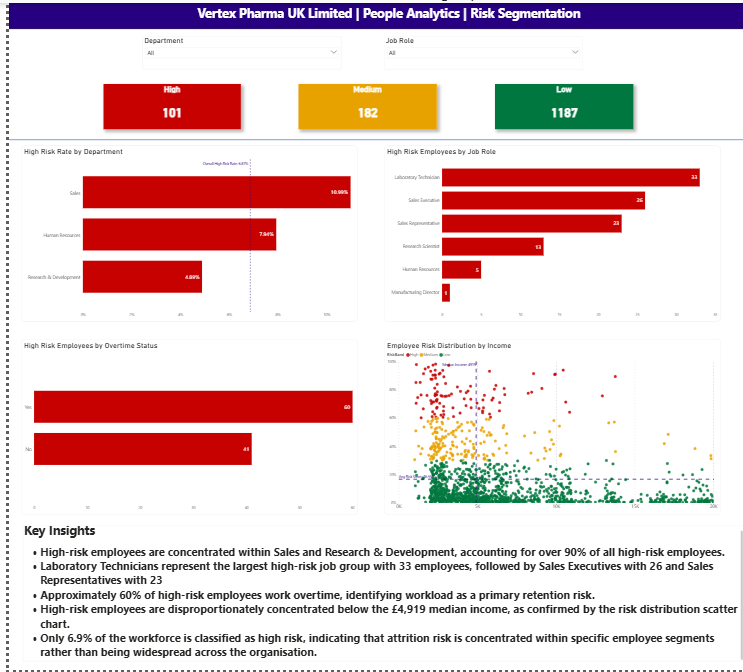

The dashboard page shown, as its layout file describes it:
{"tool":"powerbi","page":{"name":"Risk Segmentation","canvas":[2517,2282],"ordinal":2},"visuals":[{"type":"shape","box":[0,453.8,2568.5,32.2],"z":0},{"type":"textbox","box":[0,0,2600,88.9],"z":1000},{"type":"clusteredBarChart","title":"High Risk Employees by Job Role","fields":{"Y":["VP_Dashboard_Data.High Risk Employees"],"Category":["VP_Dashboard_Data.JobRole"]},"box":[1281.7,486.8,1152,602.8],"z":2000},{"type":"slicer","title":"Department","fields":{"Values":["VP_Dashboard_Data.Department"]},"box":[455.6,111.1,680.6,113.9],"z":3000},{"type":"textbox","box":[45.1,1786.4,2471.9,466.7],"z":4000},{"type":"slicer","title":"Job Role","fields":{"Values":["VP_Dashboard_Data.RiskBand"]},"box":[1283.3,111.1,680.6,113.9],"z":5000},{"type":"clusteredBarChart","title":"High Risk Employees by Overtime Status","fields":{"Y":["VP_Dashboard_Data.High Risk Employees"],"Category":["VP_Dashboard_Data.OverTime"]},"box":[43.4,1150,1152.7,602],"z":6000},{"type":"clusteredBarChart","title":"High Risk Rate by Department","fields":{"Y":["VP_Dashboard_Data.High Risk Rate"],"Category":["VP_Dashboard_Data.Department"]},"box":[43.1,486.8,1152,602.8],"z":8000},{"type":"scatterChart","title":"Employee Risk Distribution by Income","fields":{"Y":["VP_Dashboard_Data.AttritionRiskScore"],"X":["VP_Dashboard_Data.MonthlyIncome"],"Series":["VP_Dashboard_Data.RiskBand"]},"box":[1282.9,1150,1152.7,602],"z":9000},{"type":"card","title":"High","fields":{"Values":["VP_Dashboard_Data.High Risk Employees"]},"box":[325.1,276.8,469.9,154.5],"z":10000},{"type":"card","title":"Medium","fields":{"Values":["VP_Dashboard_Data.Medium Risk Employees"]},"box":[993,276.8,473.1,154.5],"z":11000},{"type":"card","title":"Low","fields":{"Values":["VP_Dashboard_Data.Low Risk Employees"]},"box":[1664.1,276.8,473.1,154.5],"z":12000}]}

Visuals, with their boxes in screenshot pixels (x1, y1, x2, y2), scaled from the page's 2517x2282 canvas onto the 743x672 screenshot:
shape: detection(0, 134, 742, 143)
textbox: detection(0, 0, 742, 26)
"High Risk Employees by Job Role" clusteredBarChart: detection(378, 143, 718, 321)
"Department" slicer: detection(134, 33, 335, 66)
textbox: detection(13, 526, 742, 663)
"Job Role" slicer: detection(379, 33, 580, 66)
"High Risk Employees by Overtime Status" clusteredBarChart: detection(13, 339, 353, 516)
"High Risk Rate by Department" clusteredBarChart: detection(13, 143, 353, 321)
"Employee Risk Distribution by Income" scatterChart: detection(379, 339, 719, 516)
"High" card: detection(96, 82, 235, 127)
"Medium" card: detection(293, 82, 433, 127)
"Low" card: detection(491, 82, 631, 127)
